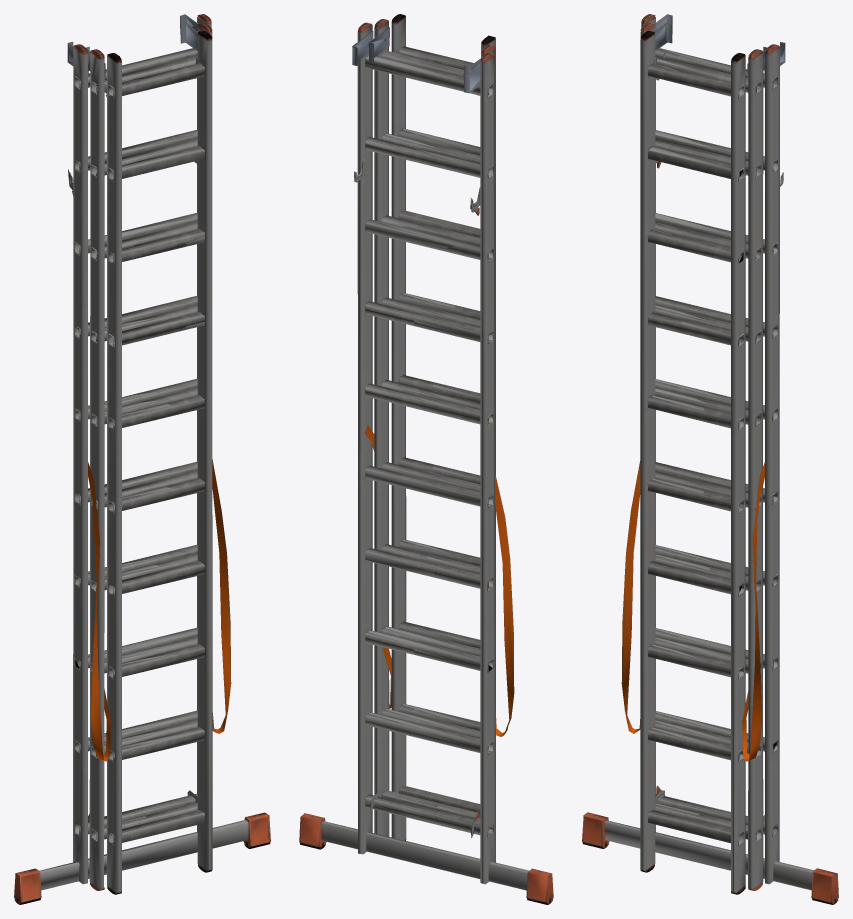
The model's file is ladder_sectioned_01_lod1.glb.
3 renders of one model, left to right at view 1: azimuth 30°, elevation 25°; view 2: azimuth 150°, elevation 25°; view 3: azimuth 330°, elevation 25°, orthographic.
Visible parts, largest first — view 1: ladder_section_01; view 2: ladder_section_01; view 3: ladder_section_01.
Part boxes in pixels (box(x1,y1,x2,y2)): ladder_section_01: box(14, 14, 270, 904); ladder_section_01: box(299, 14, 553, 904); ladder_section_01: box(582, 14, 838, 904).
Size of the model in its own units: 0.6615 by 2.13 by 0.177.
Materials: 1 (1 with a texture image).
